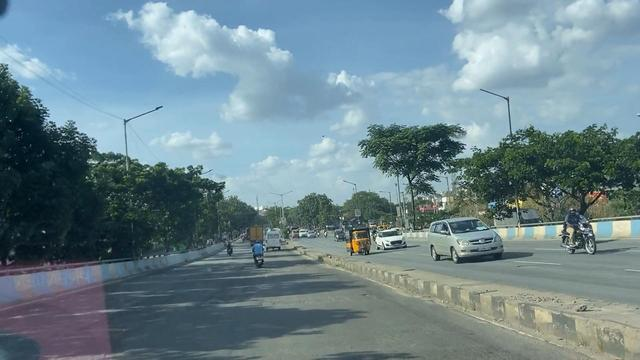HMV: (268, 226, 279, 241)
LMV: (250, 240, 265, 266)
RoadDamages: (185, 292, 377, 332), (73, 295, 185, 360), (375, 326, 501, 360)
